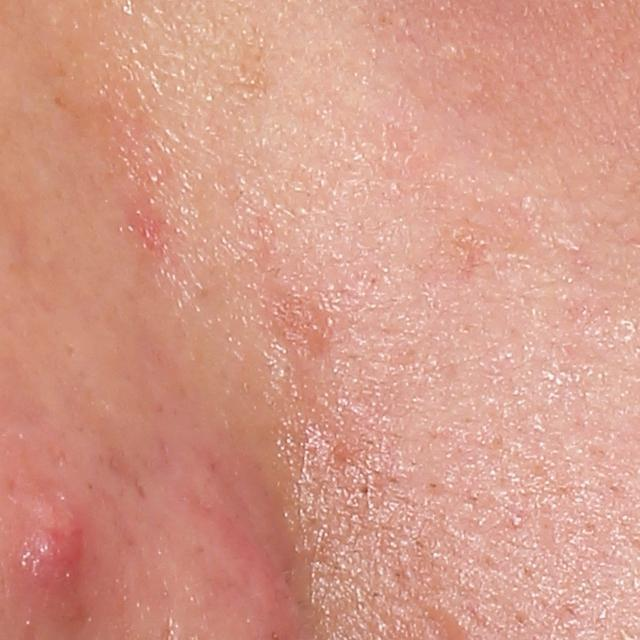papule: (13, 494, 85, 627)
